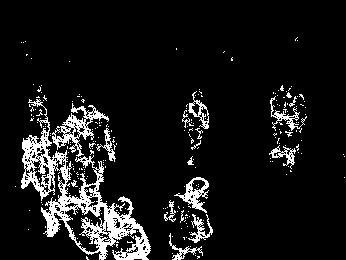person: (20, 139, 63, 237), (166, 176, 213, 260), (62, 181, 103, 260), (82, 105, 115, 191), (106, 197, 151, 260), (56, 129, 83, 224), (65, 95, 91, 184), (182, 88, 210, 168), (285, 93, 307, 169), (273, 84, 291, 163), (27, 84, 51, 140)
